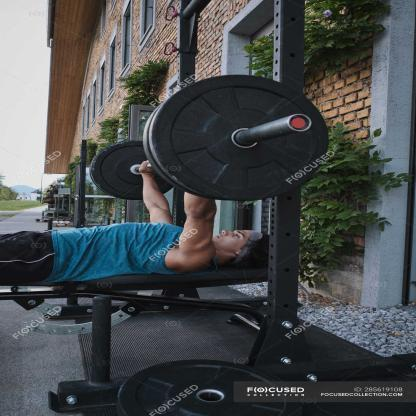barbell: (89, 72, 330, 204)
